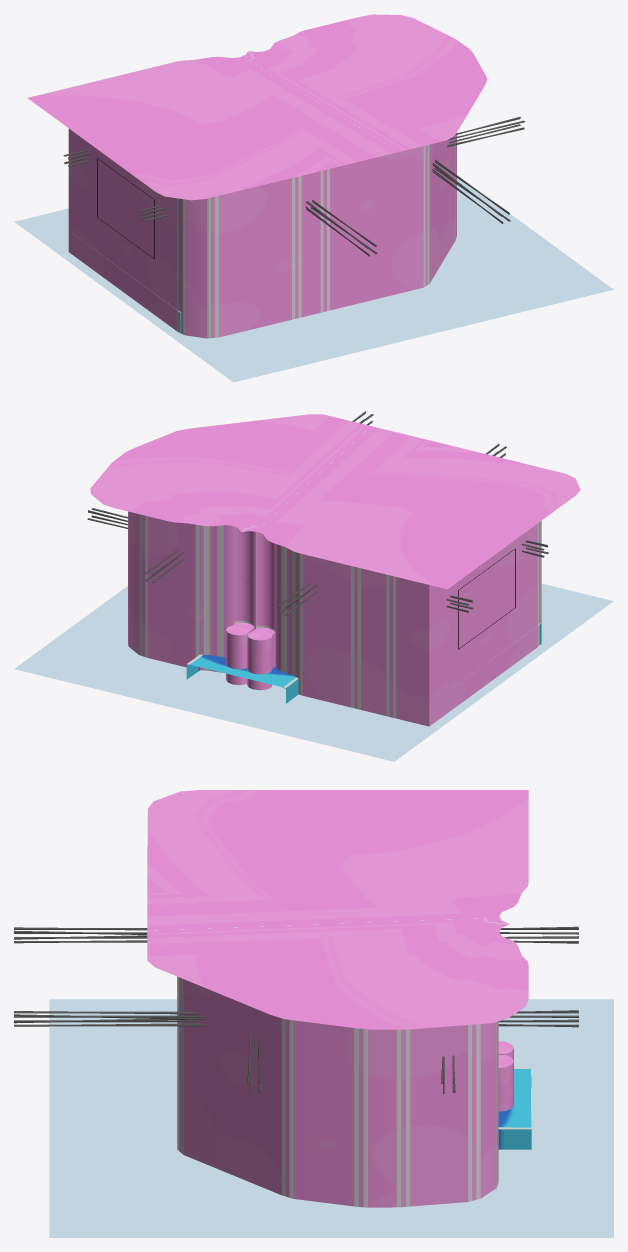
File: Set_Studio.fbx
3 renders of one model, top to bottom at view 1: azimuth 30°, elevation 25°; view 2: azimuth 150°, elevation 25°; view 3: azimuth 270°, elevation 25°, orthographic. The views are drawn at different scales.
Visible parts, largest first — view 1: Set_Studio_Walls, Set_Studio_Ceiling, Set_Studio_Floor, Set_Studio_Light_Rails; view 2: Set_Studio_Walls, Set_Studio_Ceiling, Set_Studio_Floor, Set_Studio_Light_Rails, Set_Studio_Podium; view 3: Set_Studio_Ceiling, Set_Studio_Floor, Set_Studio_Walls, Set_Studio_Light_Rails, Set_Studio_Podium.
Part boxes in pixels (left/top/right/bottom): Set_Studio_Walls: left=68, top=128, right=456, bottom=338; Set_Studio_Ceiling: left=28, top=14, right=487, bottom=200; Set_Studio_Floor: left=14, top=175, right=613, bottom=382; Set_Studio_Light_Rails: left=63, top=116, right=524, bottom=256; Set_Studio_Walls: left=128, top=511, right=541, bottom=726; Set_Studio_Ceiling: left=90, top=414, right=580, bottom=589; Set_Studio_Floor: left=14, top=583, right=613, bottom=761; Set_Studio_Light_Rails: left=87, top=411, right=548, bottom=615; Set_Studio_Podium: left=186, top=623, right=541, bottom=703; Set_Studio_Ceiling: left=147, top=790, right=528, bottom=1029; Set_Studio_Floor: left=49, top=999, right=613, bottom=1237; Set_Studio_Walls: left=177, top=976, right=513, bottom=1207; Set_Studio_Light_Rails: left=14, top=926, right=578, bottom=1093; Set_Studio_Podium: left=498, top=1067, right=531, bottom=1149.
Size of the model in its own units: 61.6 by 27.55 by 62.2.
6 materials, 1 textured.
